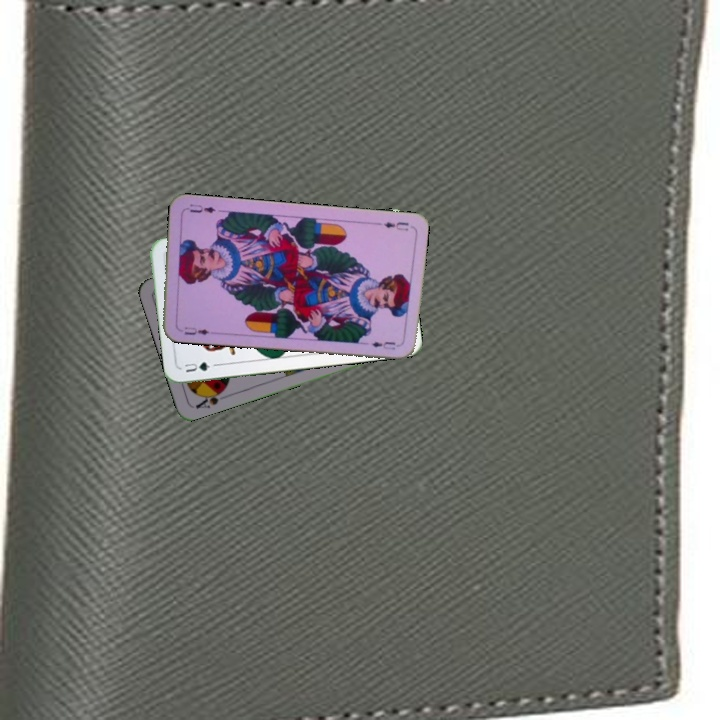EU: (180, 323, 212, 338), (380, 218, 411, 233)
GU: (180, 358, 212, 375)
SA: (191, 385, 228, 411)
